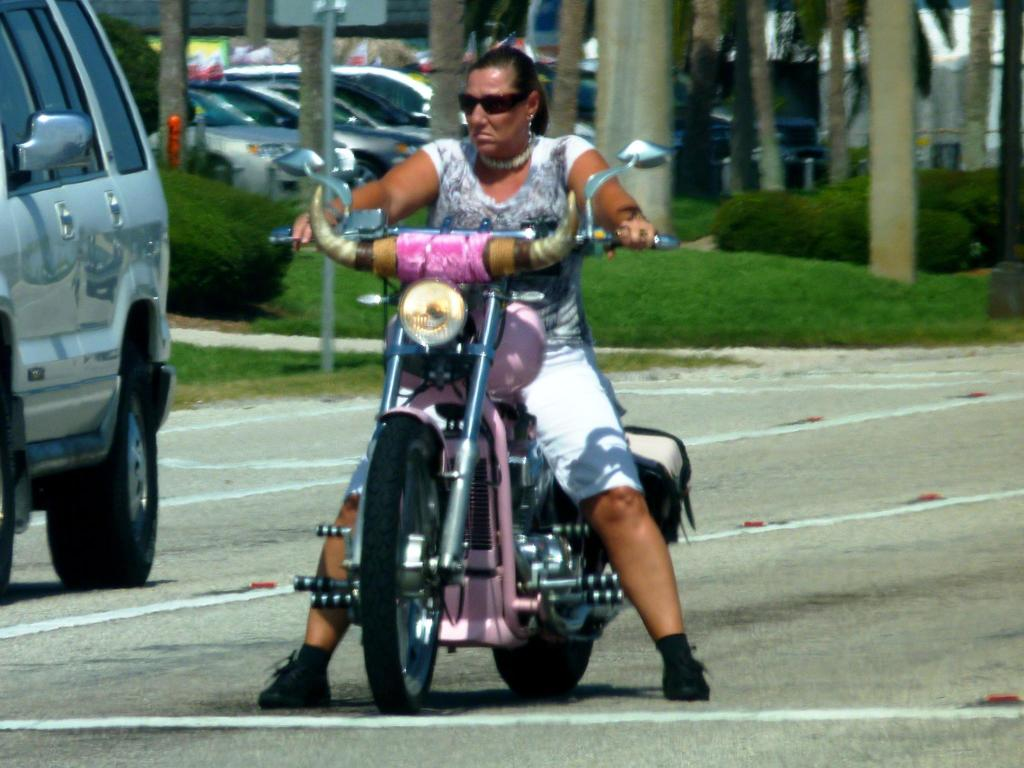Footwear: (246, 637, 330, 713), (639, 634, 710, 710)
